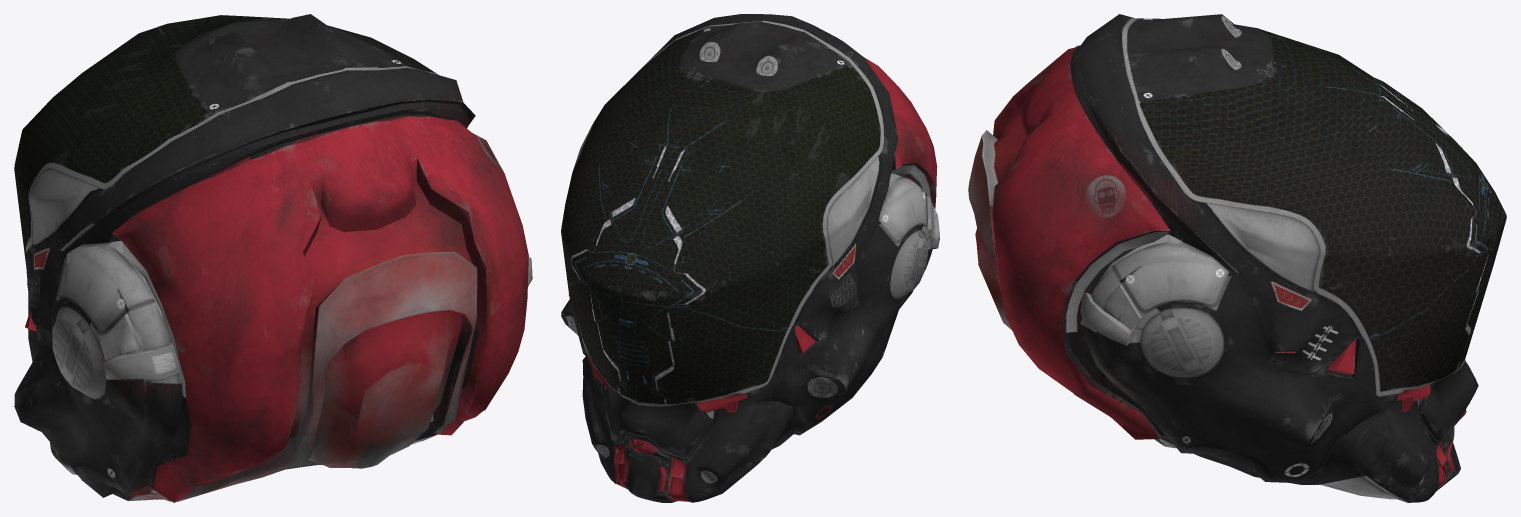
Rendered from helmet.glb.
The picture shows the model from 3 angles, left to right: view 1: azimuth 30°, elevation 25°; view 2: azimuth 150°, elevation 25°; view 3: azimuth 270°, elevation 25°; orthographic projection. The views are drawn at different scales.
Visible parts, largest first — view 1: Plane.023; view 2: Plane.023; view 3: Plane.023.
Boxes of the visible parts, left/top/right/bottom form: Plane.023: left=14, top=14, right=532, bottom=502; Plane.023: left=561, top=14, right=939, bottom=502; Plane.023: left=968, top=14, right=1506, bottom=502.
Size of the model in its own units: 2.42 by 2.83 by 3.06.
1 material, 1 textured.
